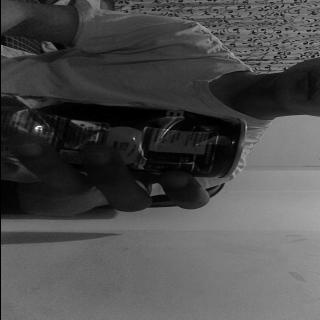alumunium_can: (0, 92, 246, 180)
